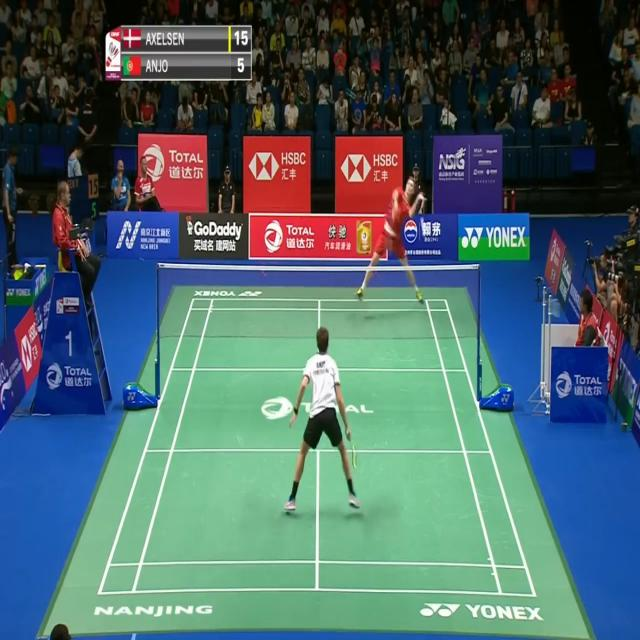Player1: (280, 321, 366, 526)
Player2: (353, 166, 437, 331)
